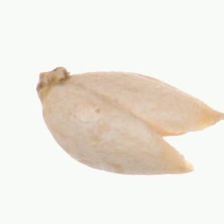L1: (151, 110, 222, 175), (34, 66, 73, 102)
L2: (36, 67, 219, 177)
